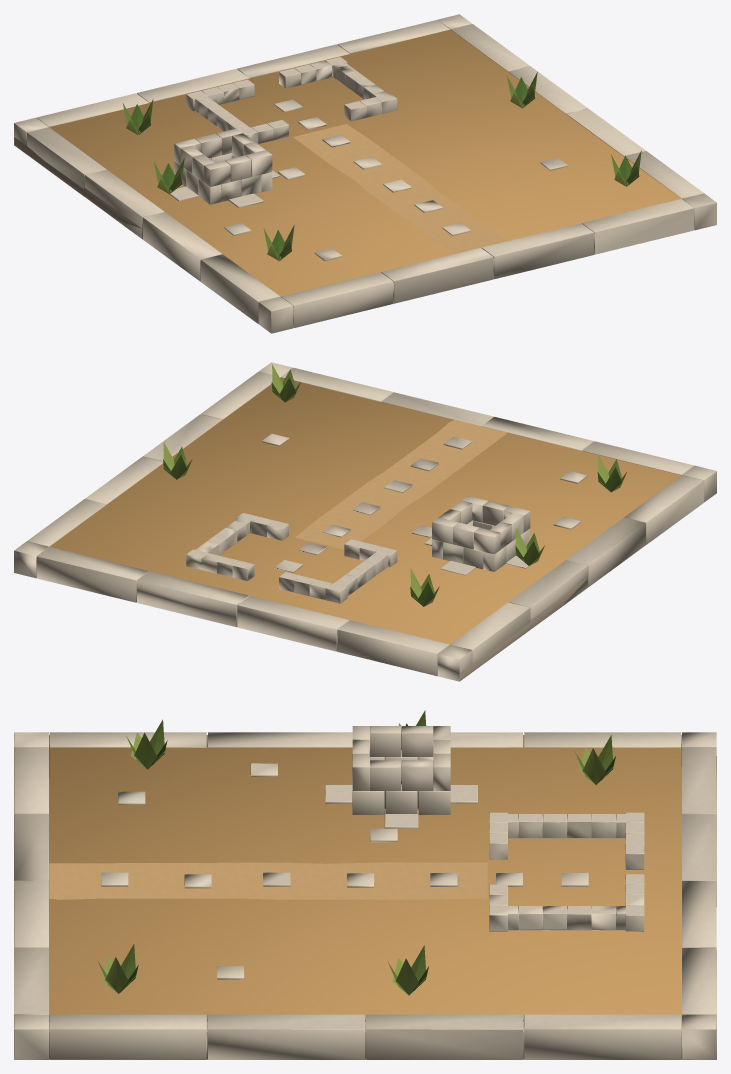
Rendered from city-1-lod1-dfe6d79f80b1.glb.
3 renders of one model, top to bottom at view 1: azimuth 30°, elevation 25°; view 2: azimuth 150°, elevation 25°; view 3: azimuth 270°, elevation 25°, orthographic. The views are drawn at different scales.
Parts seen in each view (by area): view 1: SM_CT1_V4_Batch_1.002, SM_CT1_V4_Batch_6.002, SM_CT1_V4_Batch_2.002, SM_CT1_V4_Batch_0.002, SM_CT1_V4_Batch_8.002, SM_CT1_V4_Batch_7.002, SM_CT1_V4_Batch_9.002; view 2: SM_CT1_V4_Batch_1.002, SM_CT1_V4_Batch_6.002, SM_CT1_V4_Batch_2.002, SM_CT1_V4_Batch_7.002, SM_CT1_V4_Batch_8.002, SM_CT1_V4_Batch_0.002; view 3: SM_CT1_V4_Batch_1.002, SM_CT1_V4_Batch_6.002, SM_CT1_V4_Batch_2.002, SM_CT1_V4_Batch_8.002, SM_CT1_V4_Batch_7.002, SM_CT1_V4_Batch_0.002.
Part boxes in pixels (box(x1,y1,x2,y2)): SM_CT1_V4_Batch_1.002: box(50, 29, 681, 296); SM_CT1_V4_Batch_6.002: box(14, 14, 716, 333); SM_CT1_V4_Batch_2.002: box(293, 124, 506, 253); SM_CT1_V4_Batch_0.002: box(14, 137, 694, 327); SM_CT1_V4_Batch_8.002: box(126, 72, 641, 261); SM_CT1_V4_Batch_7.002: box(122, 75, 639, 260); SM_CT1_V4_Batch_9.002: box(131, 77, 631, 254); SM_CT1_V4_Batch_1.002: box(49, 377, 680, 644); SM_CT1_V4_Batch_6.002: box(14, 362, 716, 681); SM_CT1_V4_Batch_2.002: box(295, 420, 507, 549); SM_CT1_V4_Batch_7.002: box(171, 369, 621, 606); SM_CT1_V4_Batch_8.002: box(163, 364, 626, 606); SM_CT1_V4_Batch_0.002: box(36, 524, 646, 680); SM_CT1_V4_Batch_1.002: box(49, 743, 681, 1021); SM_CT1_V4_Batch_6.002: box(14, 726, 716, 1059); SM_CT1_V4_Batch_2.002: box(49, 862, 487, 899); SM_CT1_V4_Batch_8.002: box(102, 723, 605, 995); SM_CT1_V4_Batch_7.002: box(97, 710, 613, 994); SM_CT1_V4_Batch_0.002: box(49, 735, 681, 1059).
Size of the model in its own units: 10 by 1.24 by 10.
8 materials, 3 textured.
